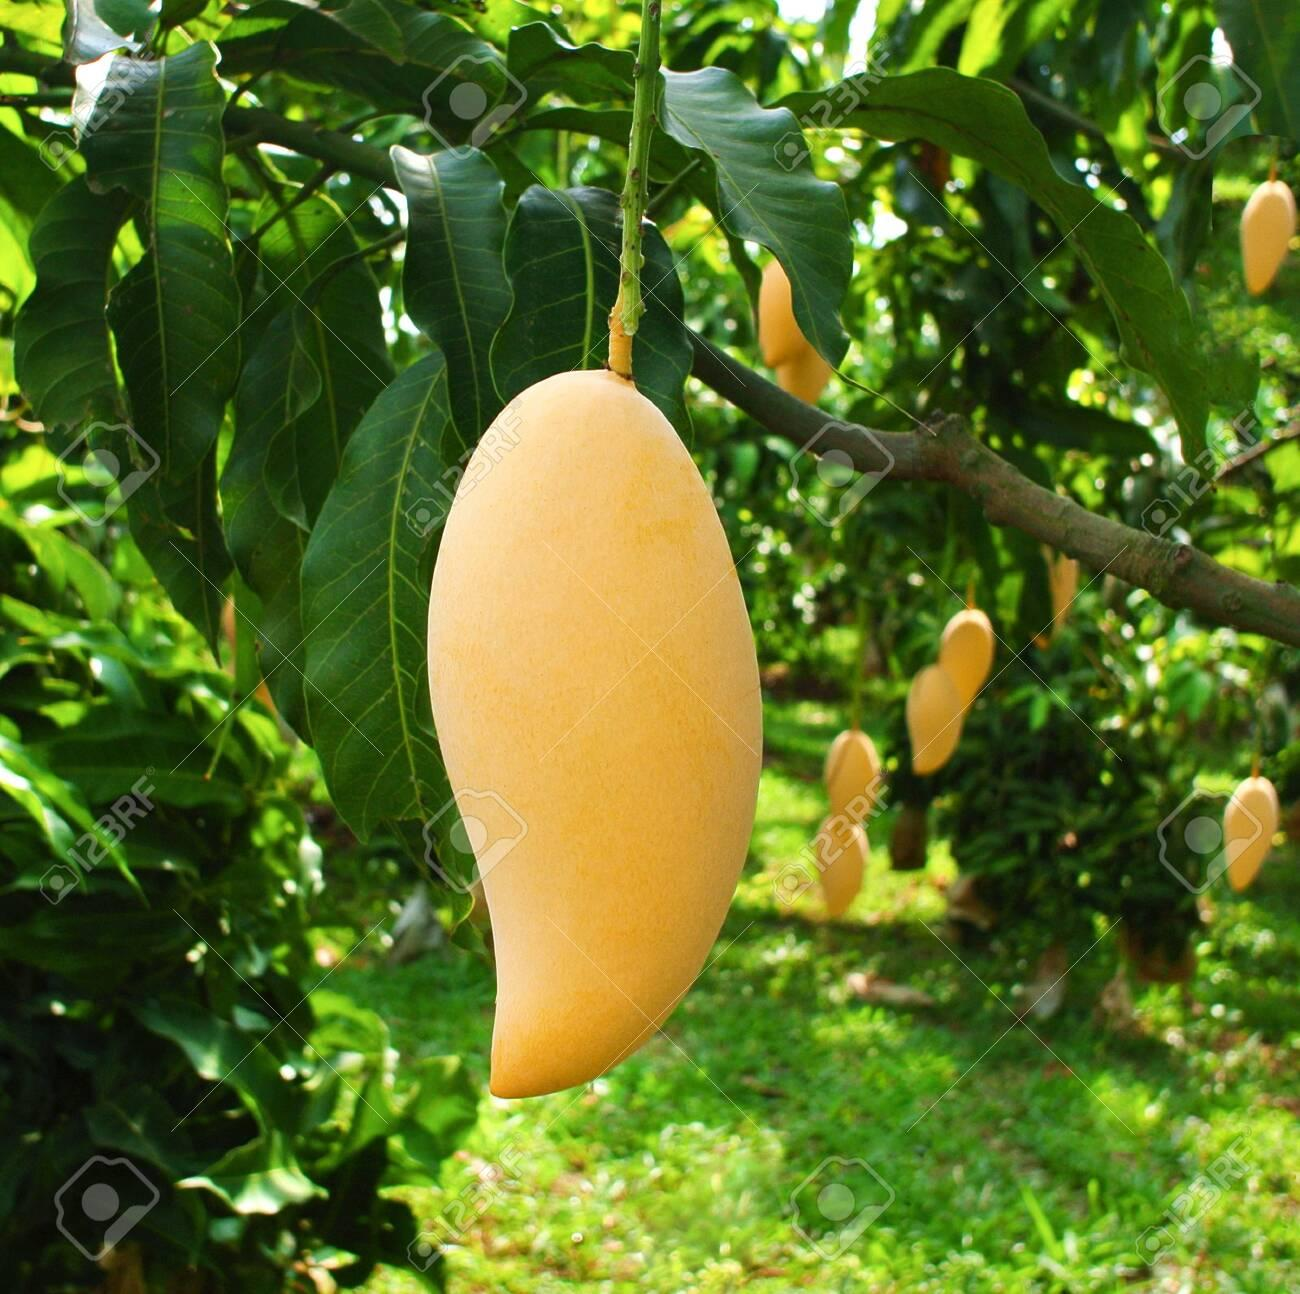mango: (408, 346, 785, 1132)
